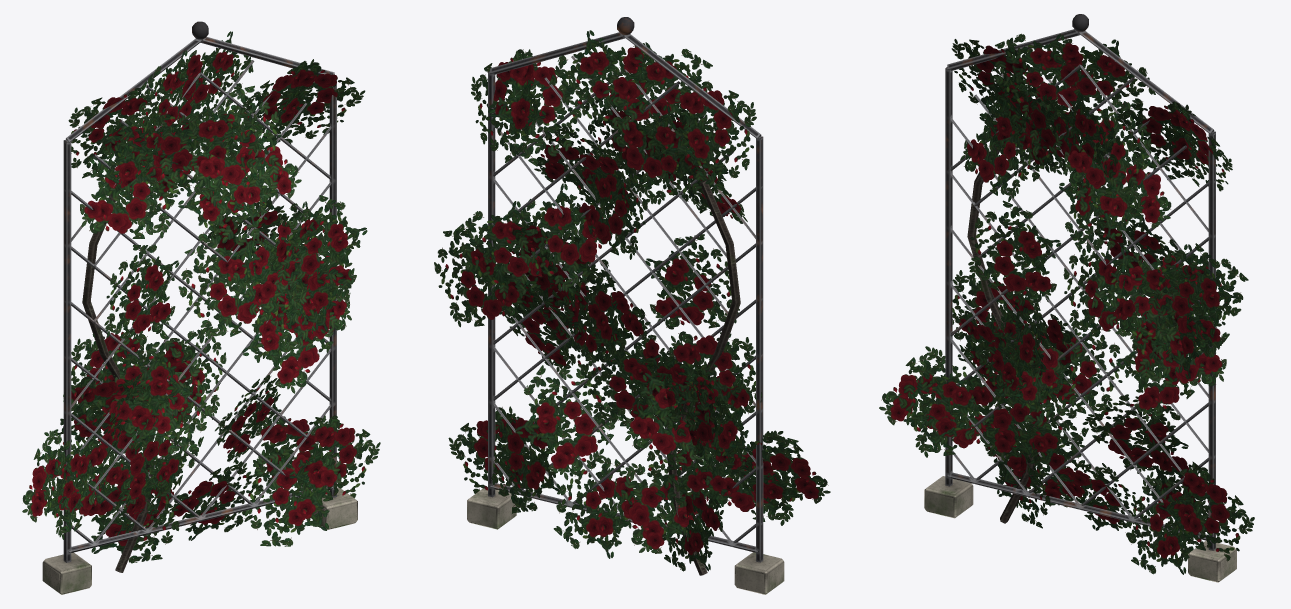
The model's file is TrellisPanel.fbx.
3 renders of one model, left to right at view 1: azimuth 30°, elevation 25°; view 2: azimuth 150°, elevation 25°; view 3: azimuth 330°, elevation 25°, orthographic.
Parts seen in each view (by area): view 1: TrellisPanel_Leaves, TrellisPanel_Main; view 2: TrellisPanel_Leaves, TrellisPanel_Main; view 3: TrellisPanel_Leaves, TrellisPanel_Main.
Boxes of the visible parts, x1,y1,x2,y2 form: TrellisPanel_Leaves: (22,31,380,563); TrellisPanel_Main: (42,21,357,594); TrellisPanel_Leaves: (434,30,830,571); TrellisPanel_Main: (467,17,784,594); TrellisPanel_Leaves: (879,33,1254,574); TrellisPanel_Main: (924,14,1236,582).
Size of the model in its own units: 598 by 785 by 101.
